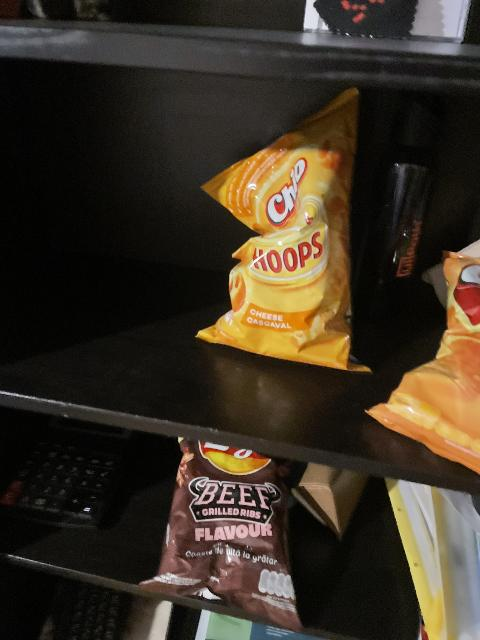Chio Cascaval 125g: (360, 251, 480, 484)
Chio Hula Hoops Cheese 70g: (191, 90, 365, 365)
Lays Beef Grilled Ribs 125g: (141, 435, 306, 631)
